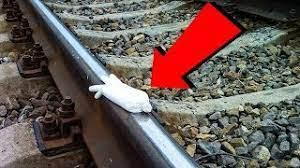mulch: (92, 70, 154, 121)
